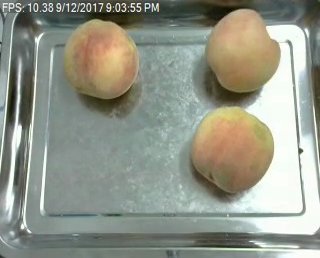Peach: (191, 103, 272, 192), (206, 7, 280, 92), (64, 18, 139, 99)
